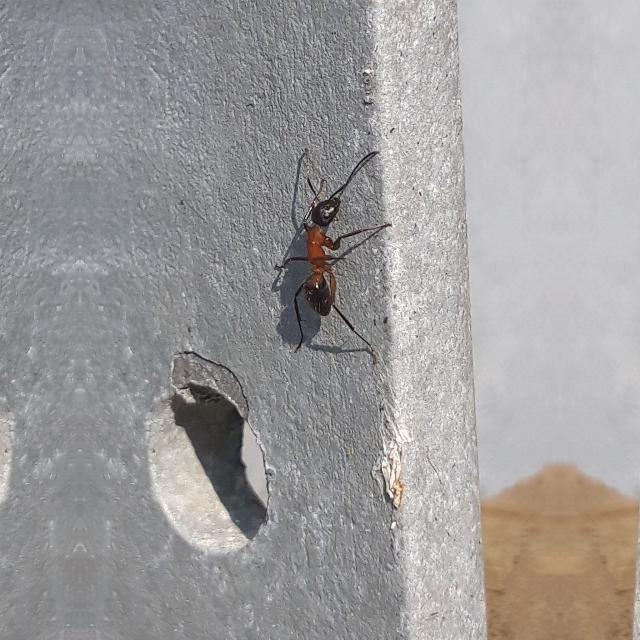Camponotus: (271, 164, 365, 338)
